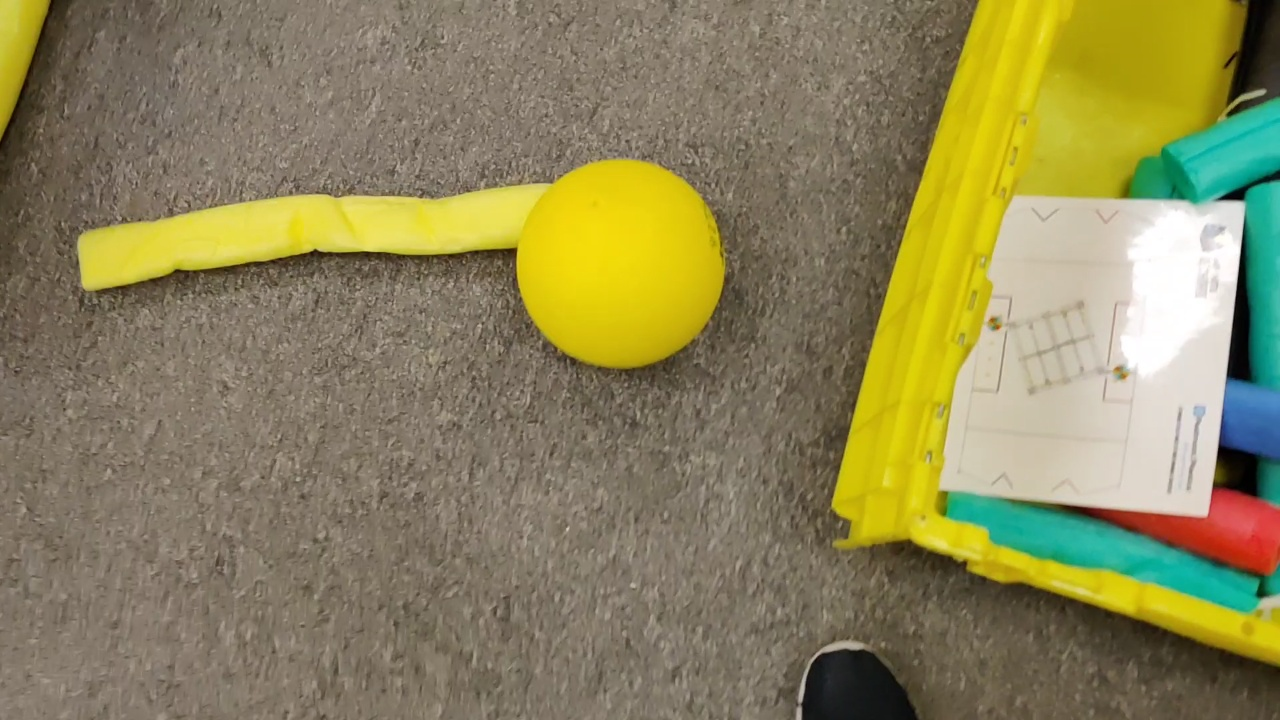Ball: (515, 160, 721, 368)
